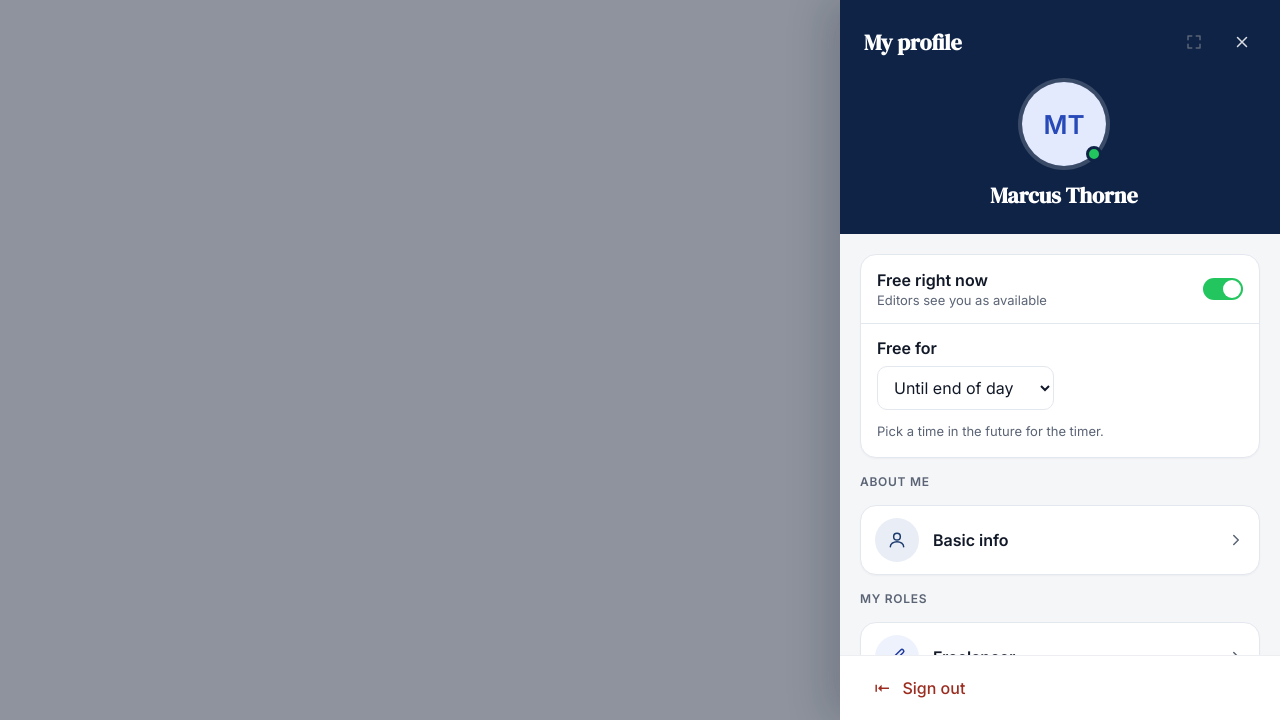
Scenario: ProfileFromUrl › saves the free-right-now flag and says so
Step 1. Click the switch labelled "Free right now Editors see you as available" → x=932, y=280, box [861,255,1259,323]
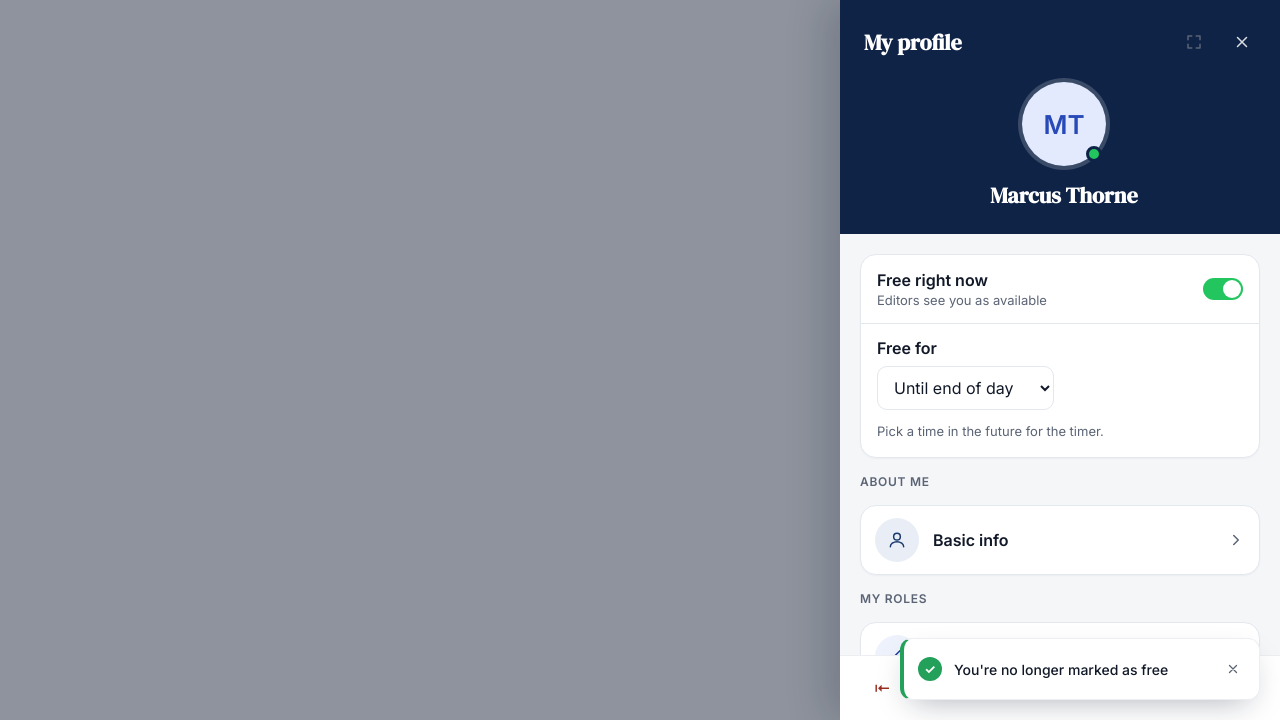
Result: the text "You're no longer marked as free" is shown at [954,660,1203,678]
